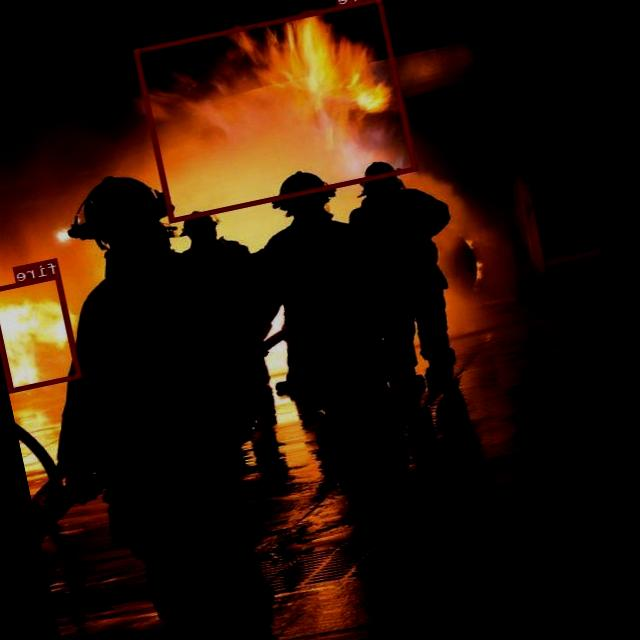fire: (134, 0, 419, 222), (0, 272, 82, 391)
